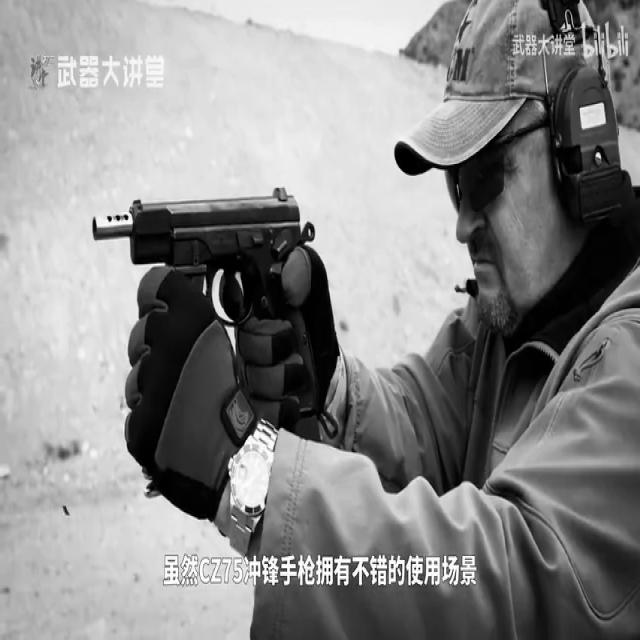Sub-machine-gun: (65, 144, 379, 531)
